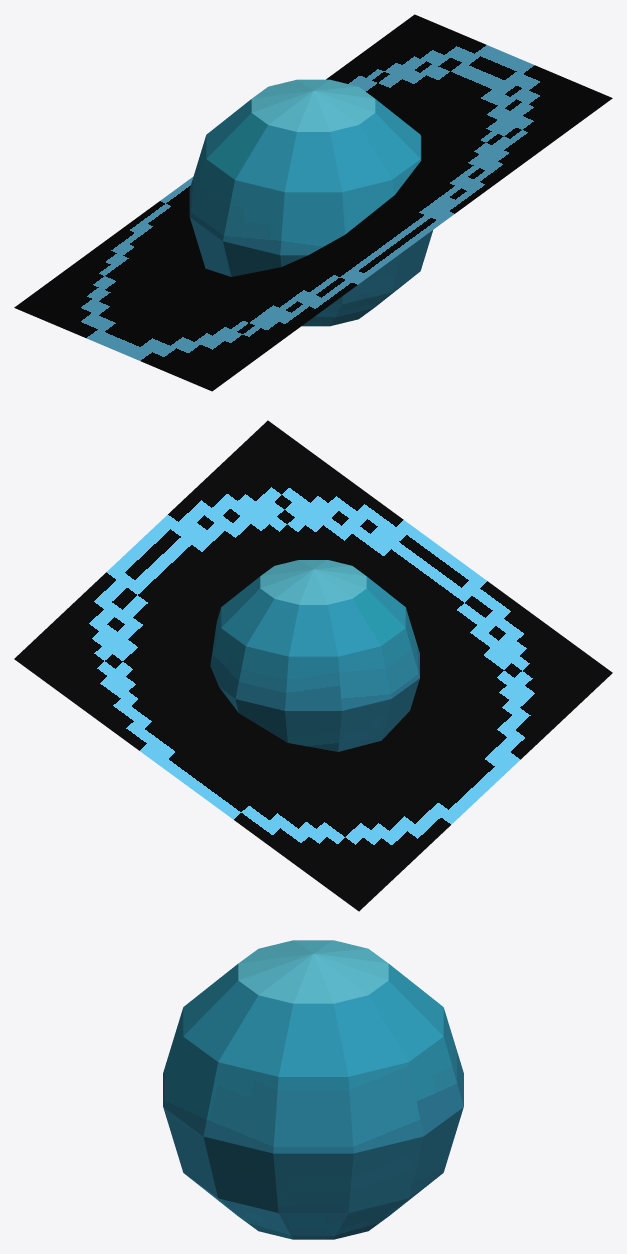
File: uranus.fbx
3 renders of one model, top to bottom at view 1: azimuth 30°, elevation 25°; view 2: azimuth 150°, elevation 25°; view 3: azimuth 270°, elevation 25°, orthographic. The views are drawn at different scales.
Parts seen in each view (by area): view 1: plane, sphere; view 2: plane, sphere; view 3: sphere.
Boxes of the visible parts, box(x1,y1,x2,y2) form: plane: box(14, 14, 612, 391); sphere: box(189, 79, 432, 326); plane: box(14, 420, 612, 911); sphere: box(210, 560, 419, 751); sphere: box(163, 940, 463, 1239).
Bounding box in the file's own units: 209 × 136 × 199.
Materials: 2 (2 with a texture image).
